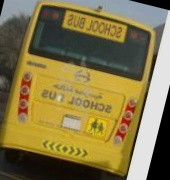bus: (0, 0, 161, 180)
